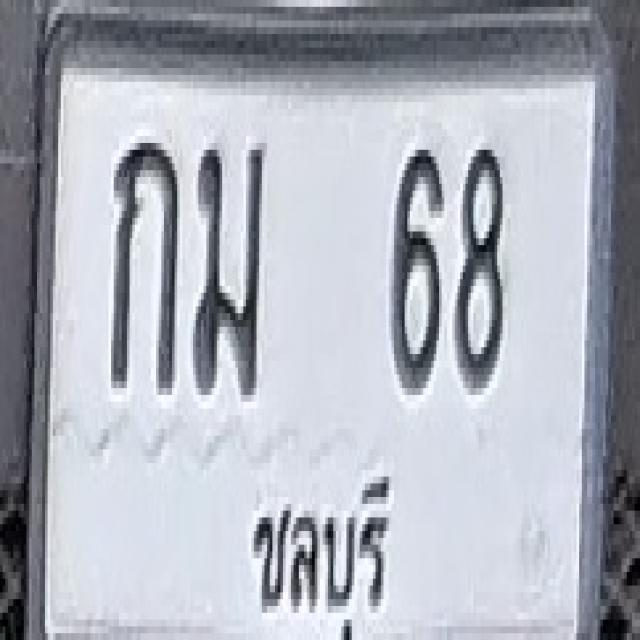6: (392, 140, 442, 384)
8: (455, 140, 502, 384)
A01: (110, 133, 178, 384)
A33: (193, 133, 265, 391)
CBI: (246, 462, 392, 640)
